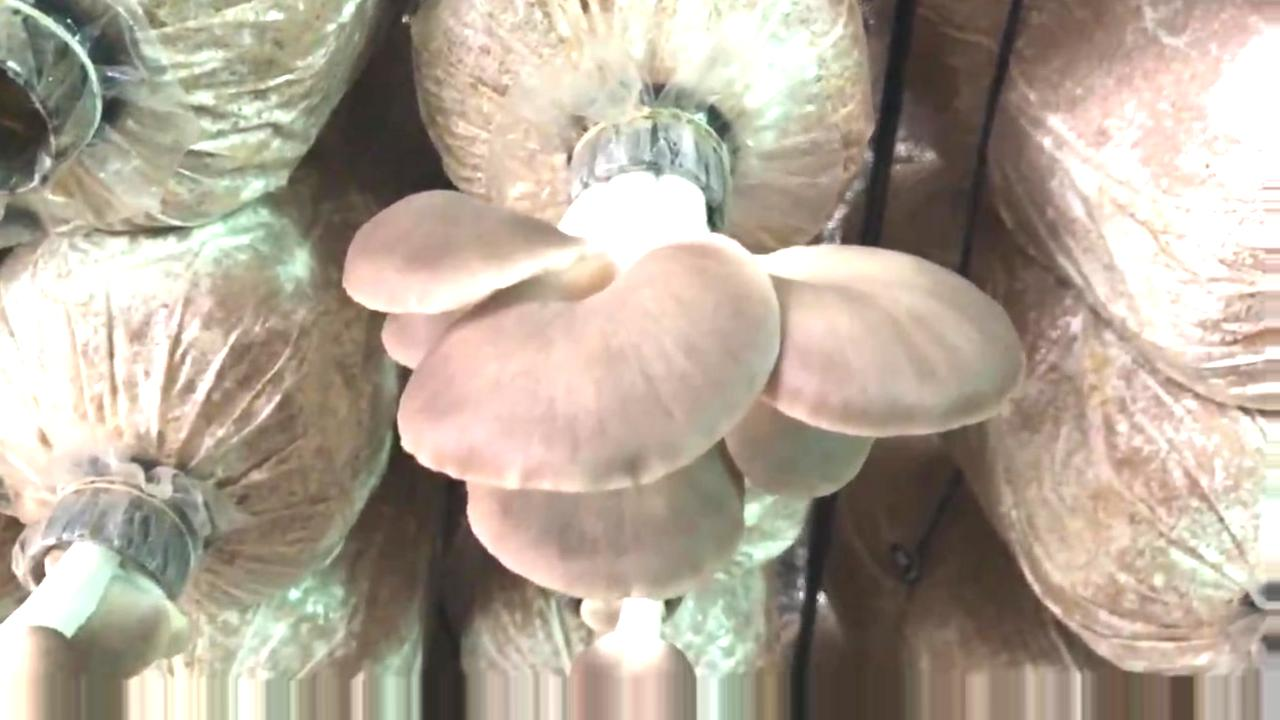nam: (349, 114, 1025, 599), (1, 483, 197, 720), (569, 596, 694, 720)
